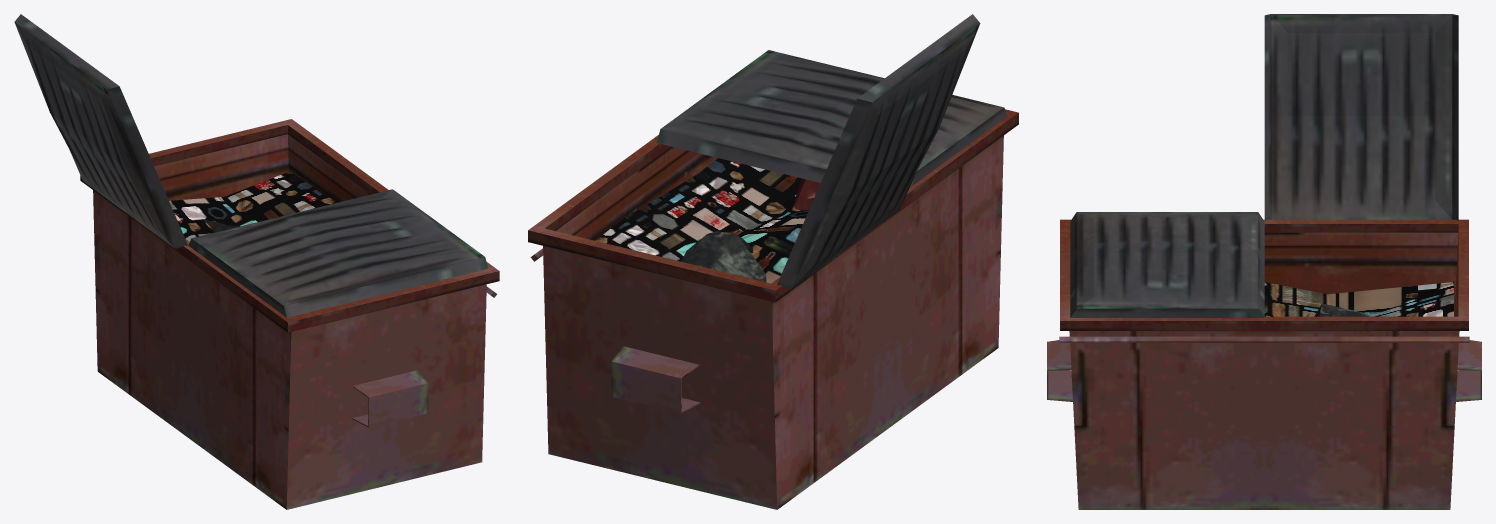
The model's file is Urban_DumpsterFullLidOpenRed_Model.fbx.
3 renders of one model, left to right at view 1: azimuth 30°, elevation 25°; view 2: azimuth 150°, elevation 25°; view 3: azimuth 270°, elevation 25°, orthographic. The views are drawn at different scales.
Visible parts, largest first — view 1: Urban_DumpsterFullLidOpenRed_Mesh; view 2: Urban_DumpsterFullLidOpenRed_Mesh; view 3: Urban_DumpsterFullLidOpenRed_Mesh.
Part boxes in pixels (box(x1,y1,x2,y2)): Urban_DumpsterFullLidOpenRed_Mesh: box(14, 14, 499, 509); Urban_DumpsterFullLidOpenRed_Mesh: box(528, 14, 1018, 509); Urban_DumpsterFullLidOpenRed_Mesh: box(1047, 14, 1481, 509).
Size of the model in its own units: 2.74 by 3.41 by 3.67.
